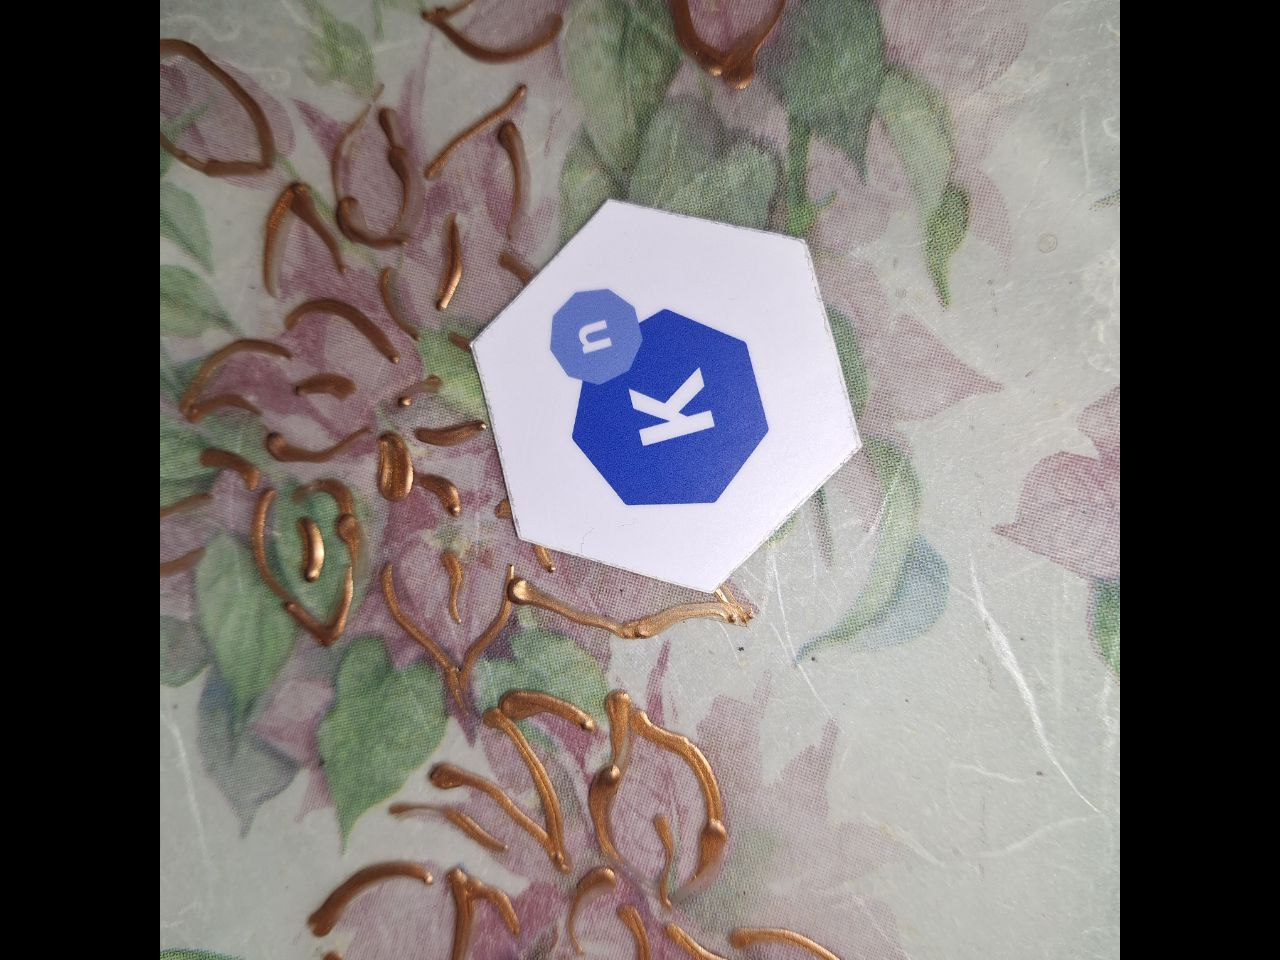knative: (548, 283, 769, 509)
